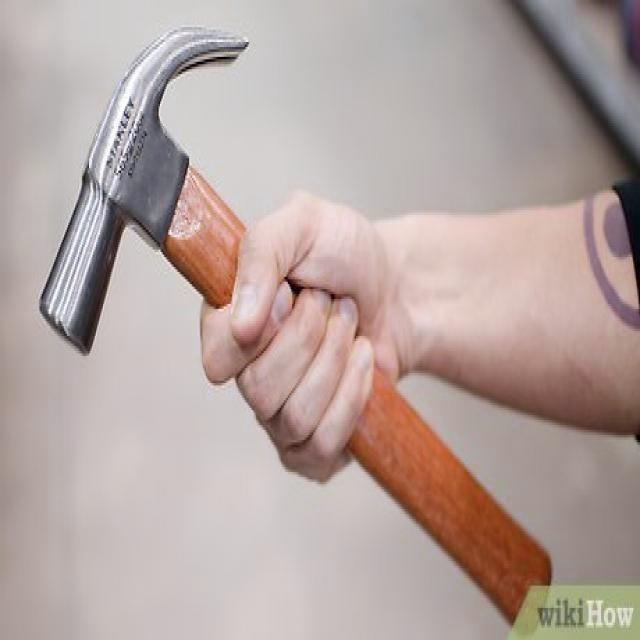hammer: (36, 22, 558, 640)
